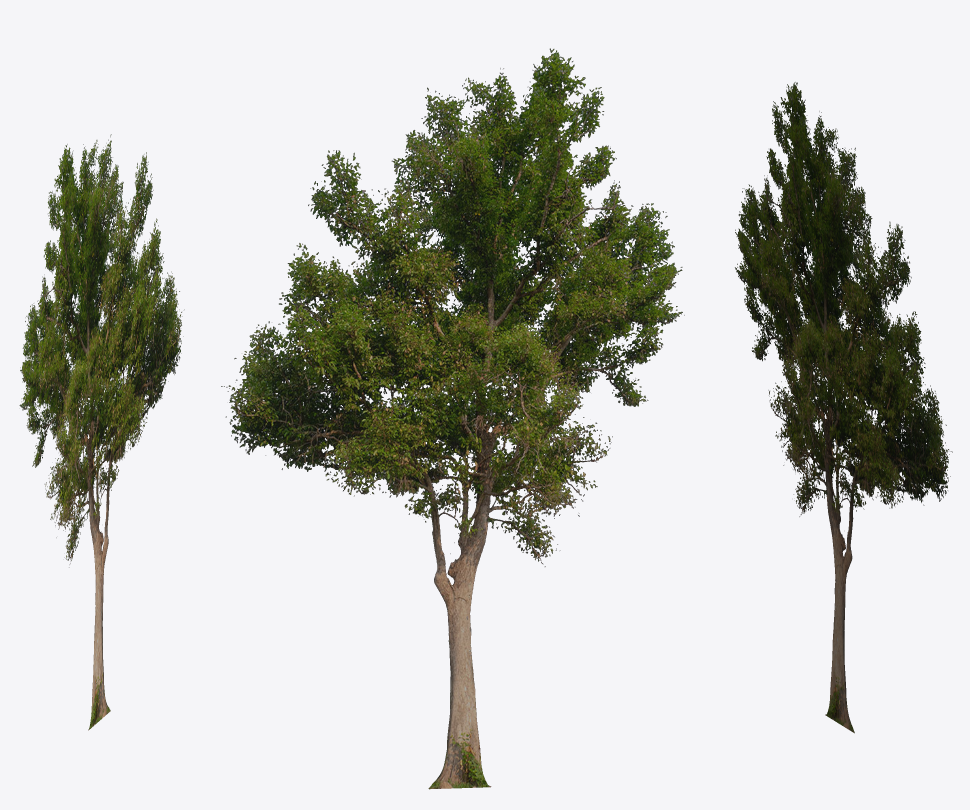
File: Arena_Tree-L.glb
3 views of the same model, side by side, from view 1: azimuth 30°, elevation 25°; view 2: azimuth 150°, elevation 25°; view 3: azimuth 270°, elevation 25° (orthographic). The views are drawn at different scales.
Parts seen in each view (by area): view 1: 9--Tree-L; view 2: 9--Tree-L; view 3: 9--Tree-L.
Boxes of the visible parts, left/top/right/bottom form: 9--Tree-L: left=19, top=134, right=184, bottom=730; 9--Tree-L: left=221, top=48, right=684, bottom=789; 9--Tree-L: left=735, top=82, right=952, bottom=733.
Size of the model in its own units: 2.65 by 5.6 by 1.81.
1 material, 1 textured.
